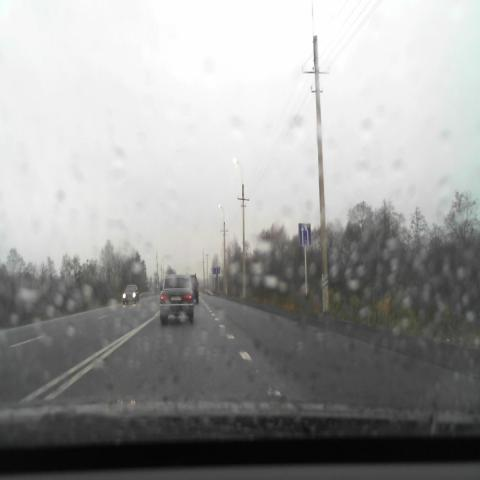5_15_5: (298, 222, 311, 246)
